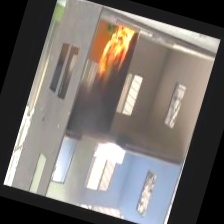fire: (92, 24, 137, 84)
smoke: (69, 78, 125, 145)
